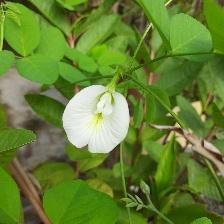shankupushpam: (61, 83, 132, 157)
